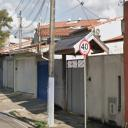speed_limit_40: (78, 40, 90, 56)
